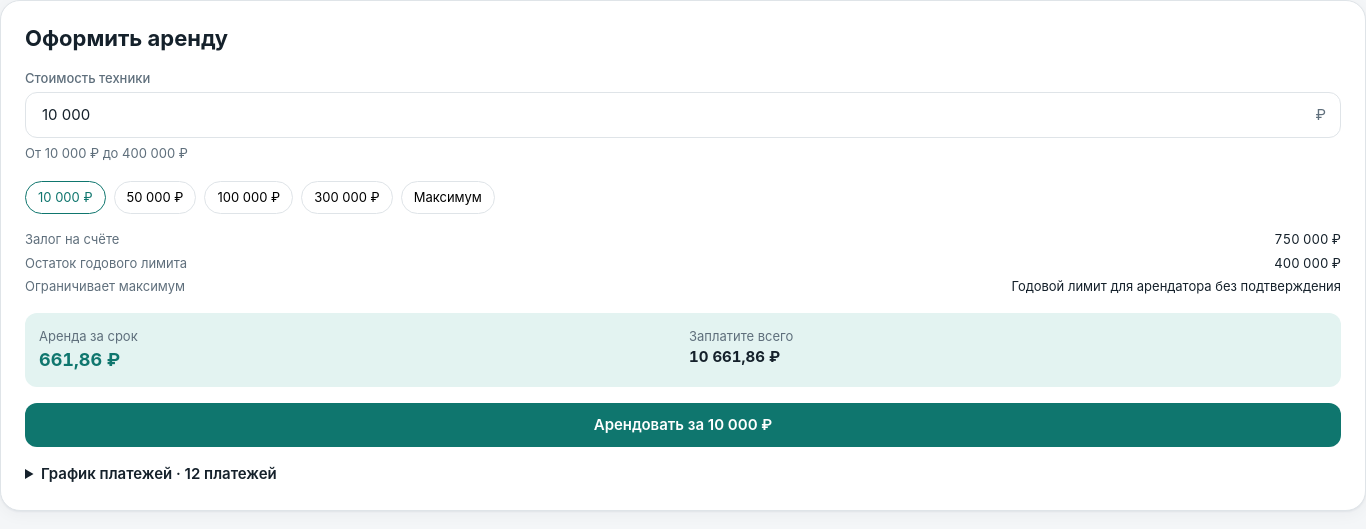
RentPanel › чип «Максимум» подставляет доступный максимум
Step 1. Click the button "Максимум" → (448,197), box [401,180,495,214]
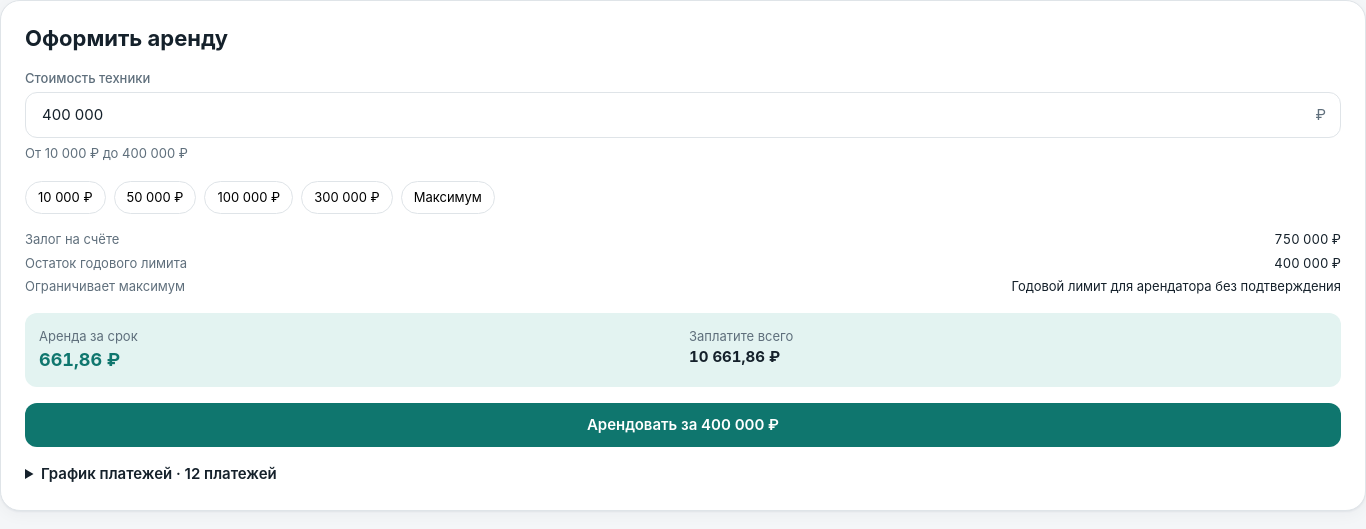
Now the field labelled "Стоимость техники ₽ От 10 000 ₽ до 400 000 ₽" holds "400 000", box [40,103,1316,127]
Now the submit button reads "Арендовать за 400 000 ₽", box [25,403,1341,447]
